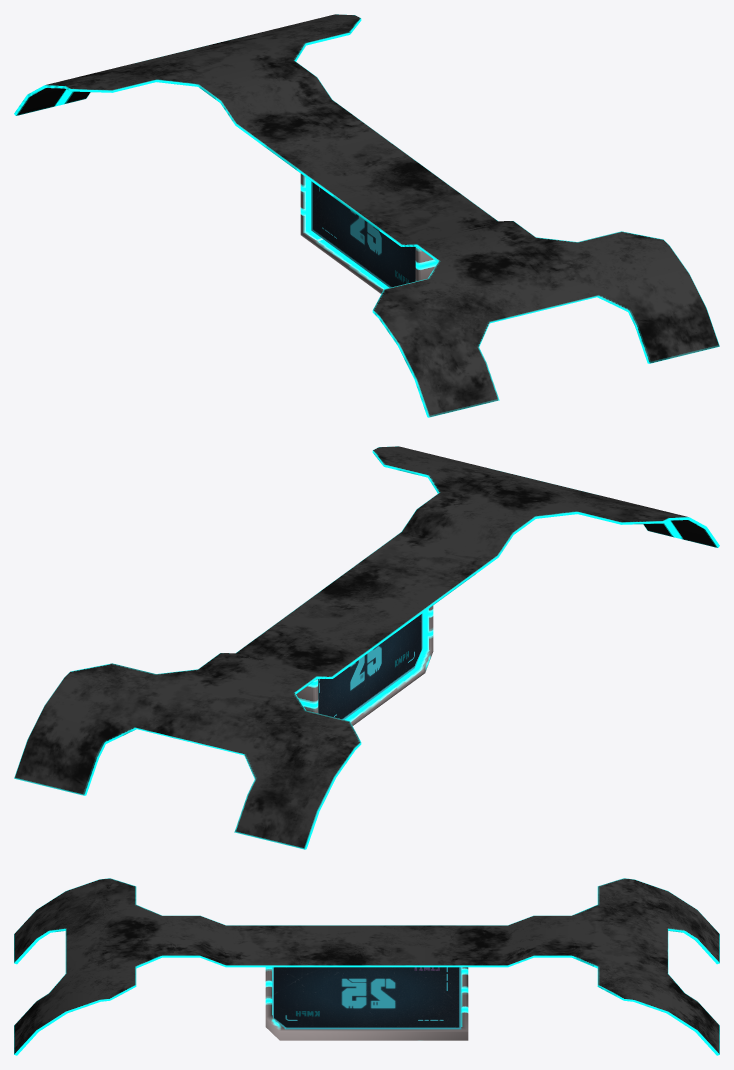
File: Speed screen.fbx
3 renders of one model, top to bottom at view 1: azimuth 30°, elevation 25°; view 2: azimuth 150°, elevation 25°; view 3: azimuth 270°, elevation 25°, orthographic. The views are drawn at different scales.
Parts seen in each view (by area): view 1: model_129.003; view 2: model_129.003; view 3: model_129.003.
Part boxes in pixels (x1,y1,x2,y2): model_129.003: (14, 14, 719, 417); model_129.003: (14, 446, 719, 849); model_129.003: (14, 878, 719, 1055).
Bounding box in the file's own units: 2386 × 912 × 5901.
1 material, 1 textured.
